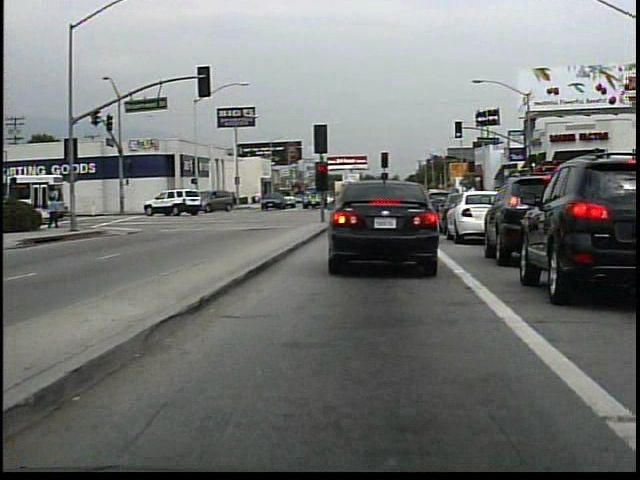person: (48, 192, 68, 233), (256, 188, 264, 209)
